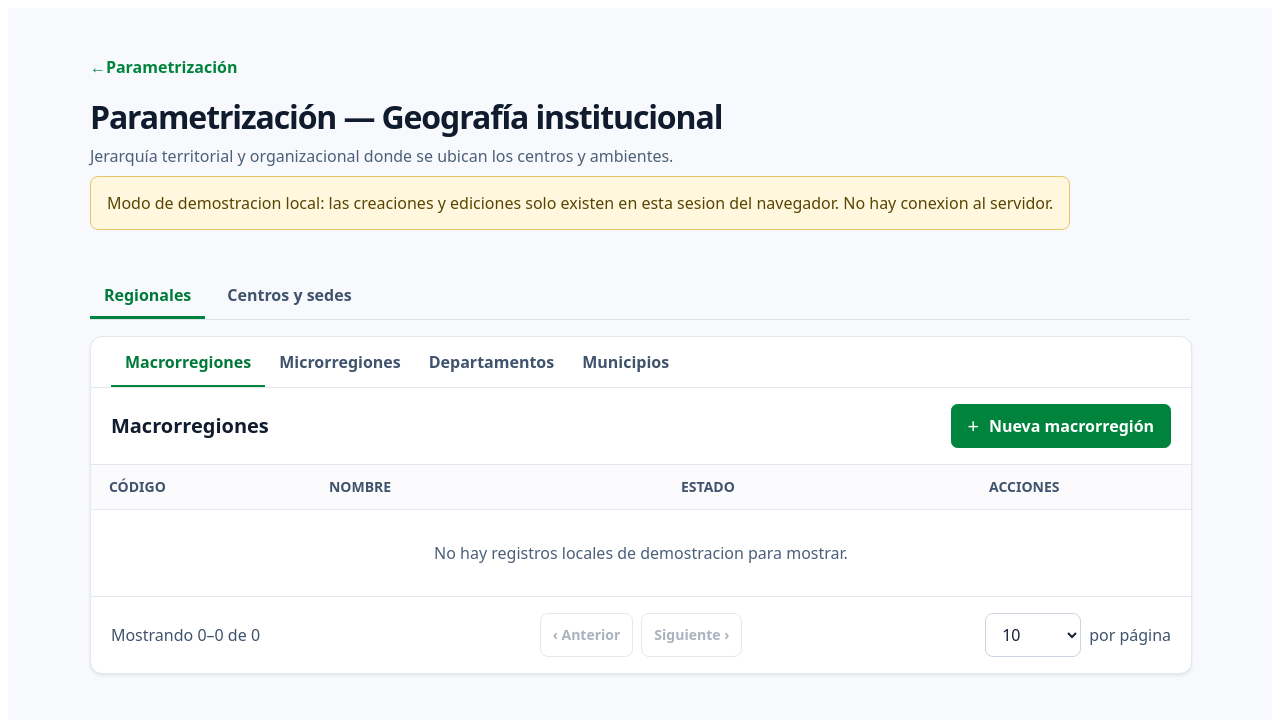
Test case: gestión de centros de formación y sedes › monta la sección institucional cuando el host concede REF_HIERARCHY_MANAGE
This screenshot has width=1280, height=720.
Click the button "Centros y sedes": (289, 296) [213,274,366,318]
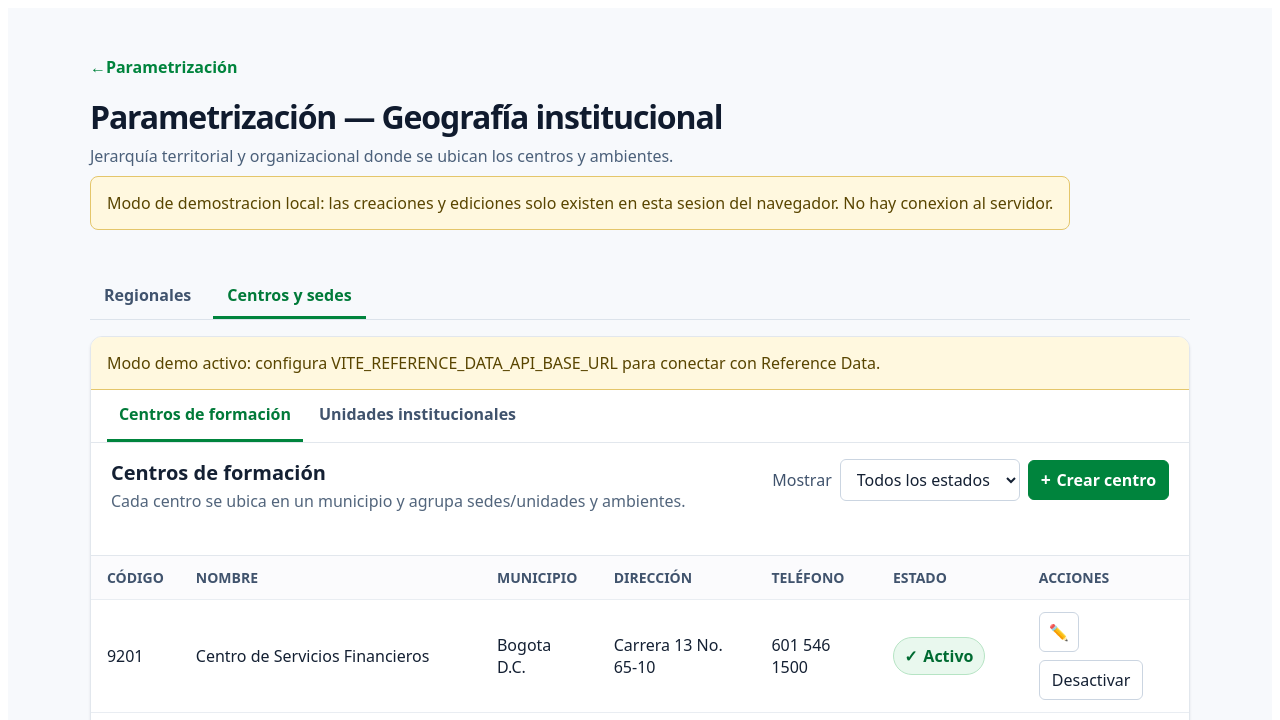
Now the heading "Centros de formación" is shown, box [111,458,326,486]
